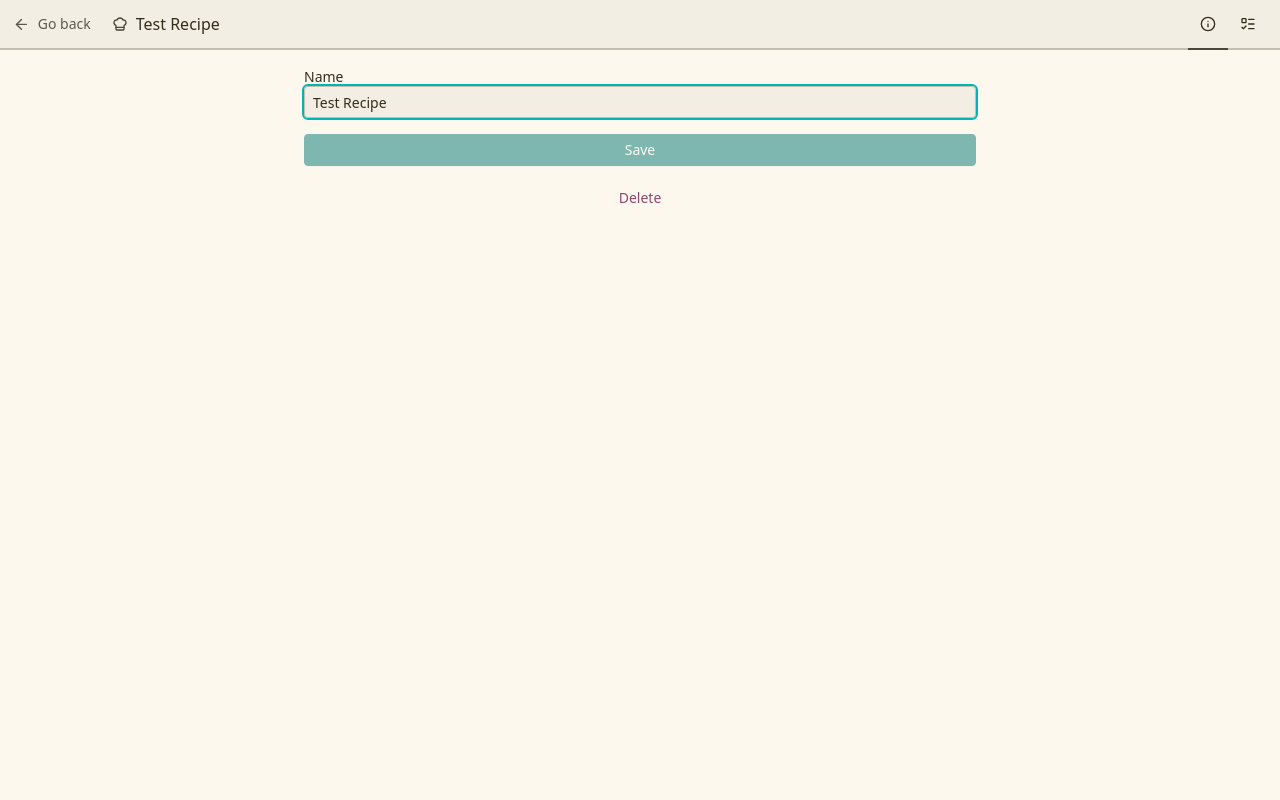
Scenario: Recipe Detail - Info Tab › user can navigate back with back button when navigation history exists
Expected: the heading "Test Recipe" is shown, [136, 13, 220, 35]
Note: When user clicks back button (now a button, not a link)
Click the button "Go back" at (52, 24), box [12, 8, 92, 40]
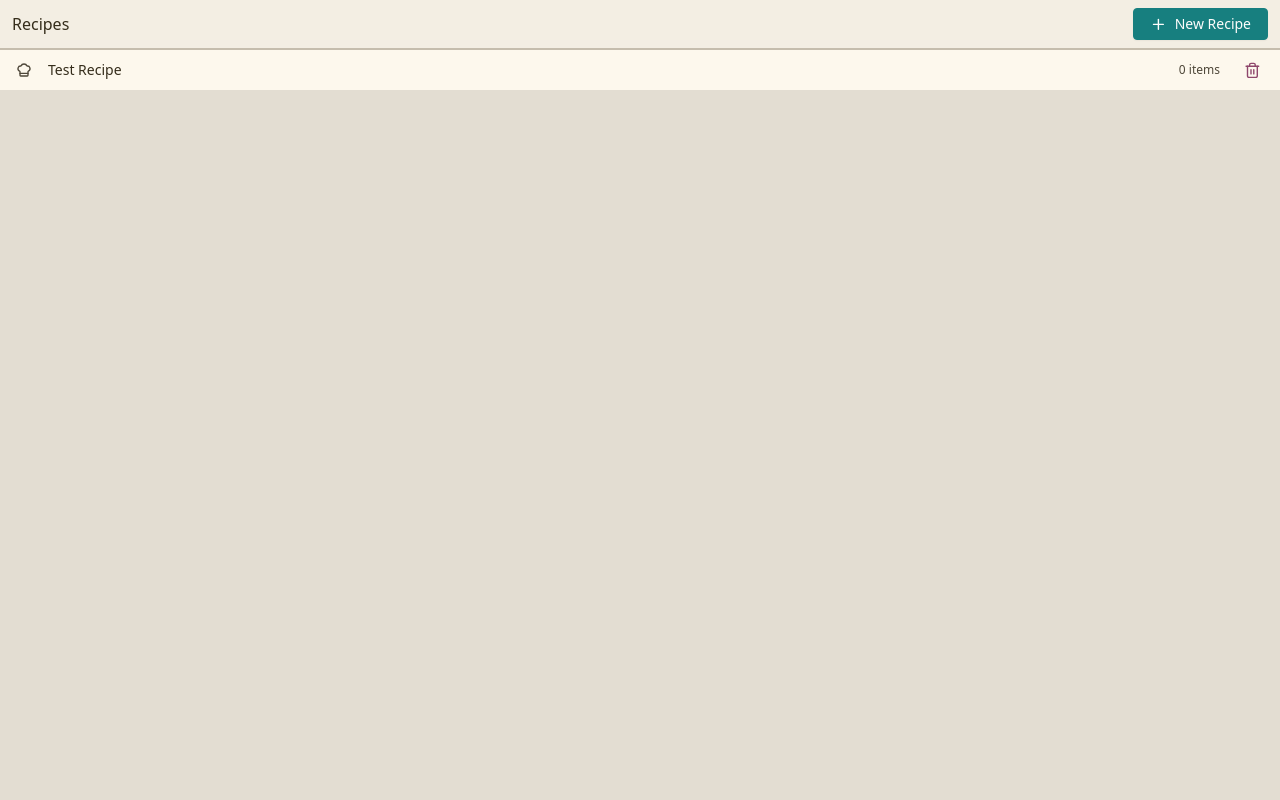
Result: the heading "Recipes" is shown at [12, 14, 69, 34]
Result: the button "New Recipe" is shown at [1133, 8, 1268, 40]
